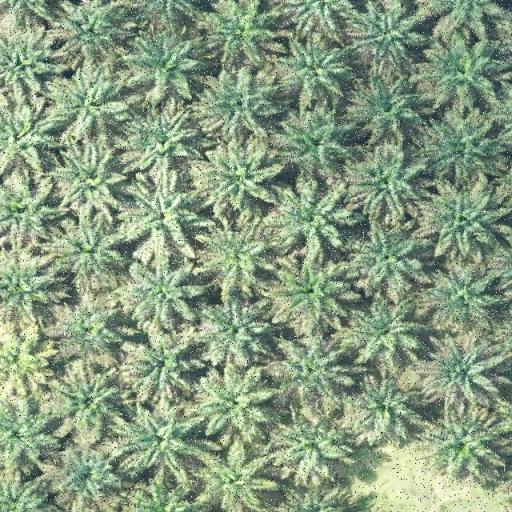Ganoderma: (0, 340, 37, 378)
